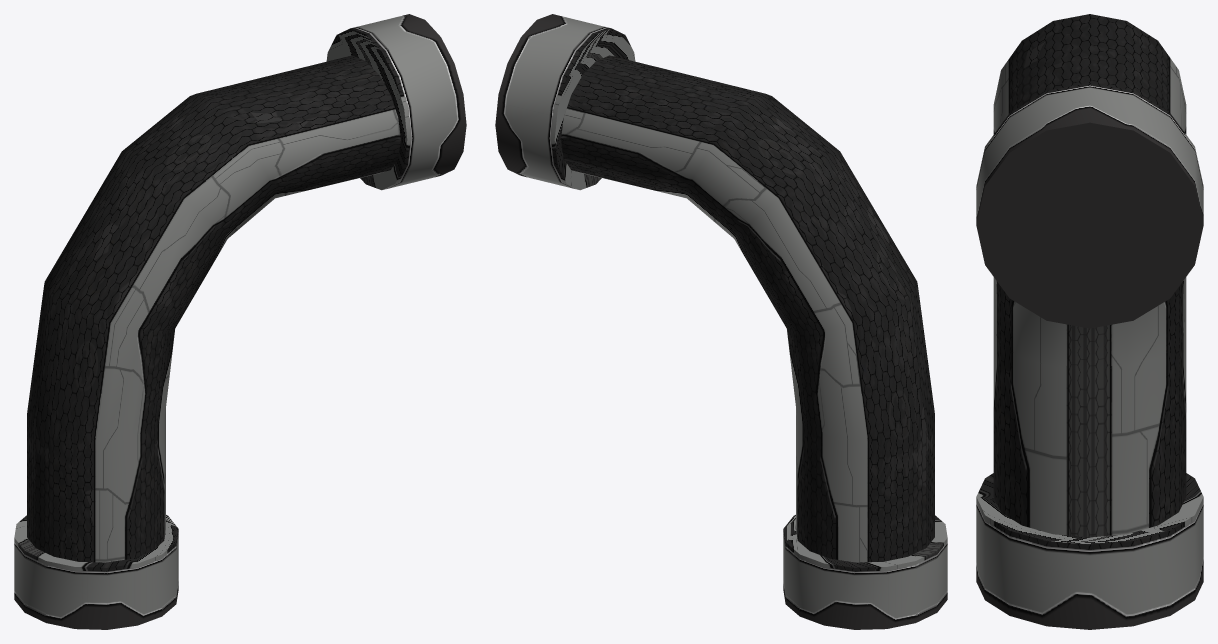
File: Pipe 02.fbx
3 renders of one model, left to right at view 1: azimuth 30°, elevation 25°; view 2: azimuth 150°, elevation 25°; view 3: azimuth 270°, elevation 25°, orthographic. The views are drawn at different scales.
Parts seen in each view (by area): view 1: pipe 02; view 2: pipe 02; view 3: pipe 02.
Boxes of the visible parts, <box> form: pipe 02: <box>14,14,466,629</box>; pipe 02: <box>495,14,947,629</box>; pipe 02: <box>976,14,1203,629</box>.
Bounding box in the file's own units: 329 × 389 × 118.
